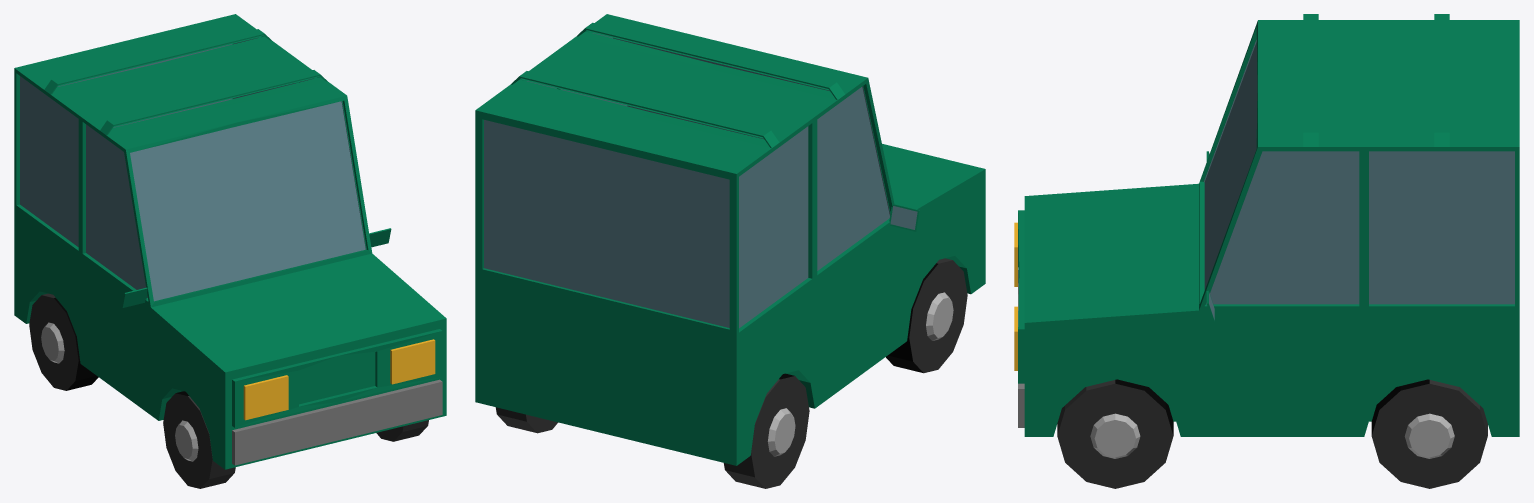
File: car055.gltf
The picture shows the model from 3 angles, left to right: view 1: azimuth 30°, elevation 25°; view 2: azimuth 150°, elevation 25°; view 3: azimuth 270°, elevation 25°; orthographic projection. The views are drawn at different scales.
Visible parts, largest first — view 1: car_055, tire_055; view 2: car_055, tire_055; view 3: car_055, tire_055.
Boxes of the visible parts, bbox=[...] form: car_055: bbox=[14, 14, 446, 469]; tire_055: bbox=[29, 293, 428, 488]; car_055: bbox=[475, 14, 985, 465]; tire_055: bbox=[495, 258, 967, 488]; car_055: bbox=[1014, 14, 1519, 436]; tire_055: bbox=[1057, 379, 1487, 488].
Size of the model in its own units: 2.25 by 2.43 by 3.15.
Materials: 1 (1 with a texture image).
